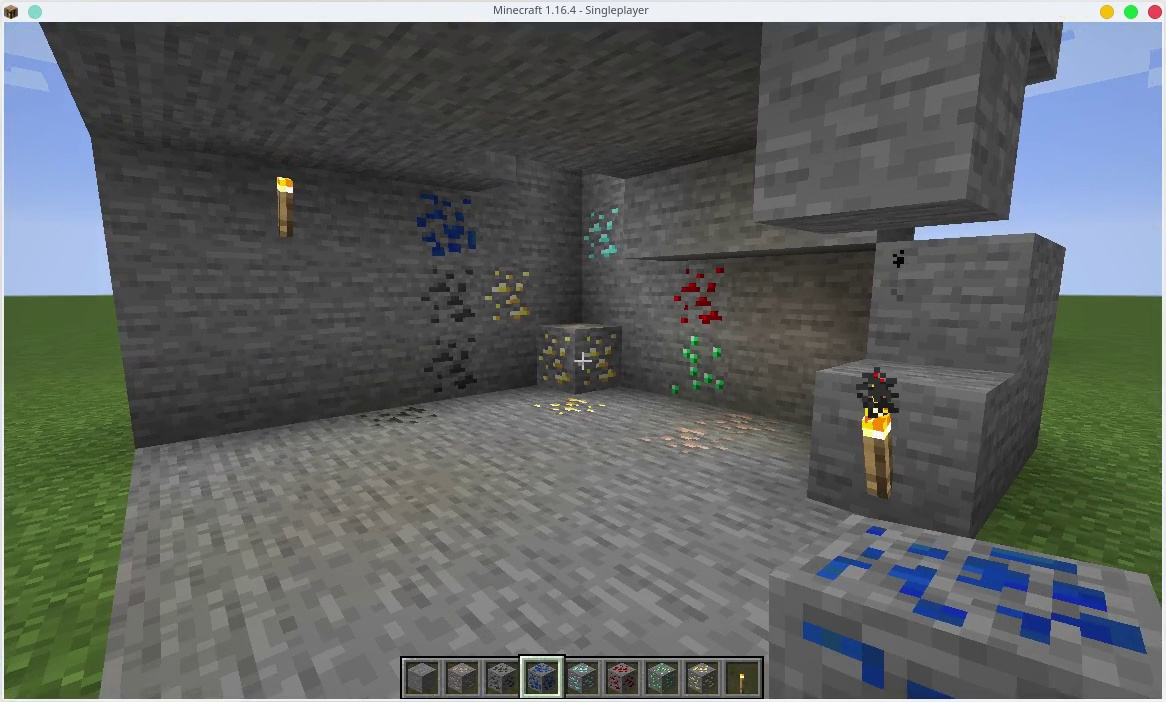gold: (539, 323, 620, 392), (478, 268, 526, 323), (528, 398, 621, 416), (686, 660, 719, 694)
